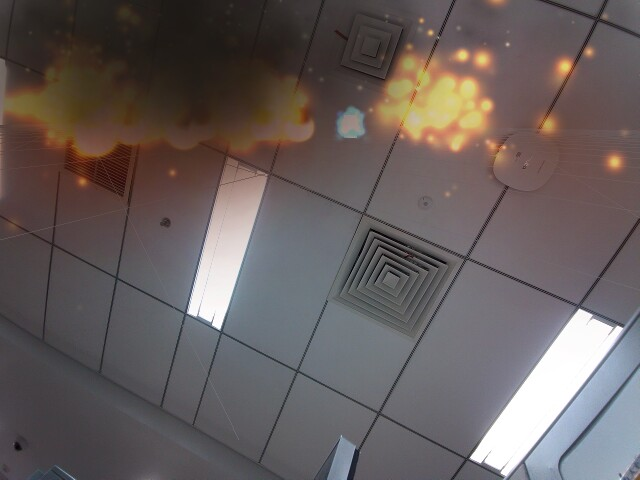fire: (174, 116, 194, 142), (120, 117, 138, 139), (290, 117, 309, 135), (255, 117, 272, 134), (196, 117, 210, 134)
firebig: (79, 115, 108, 148)
